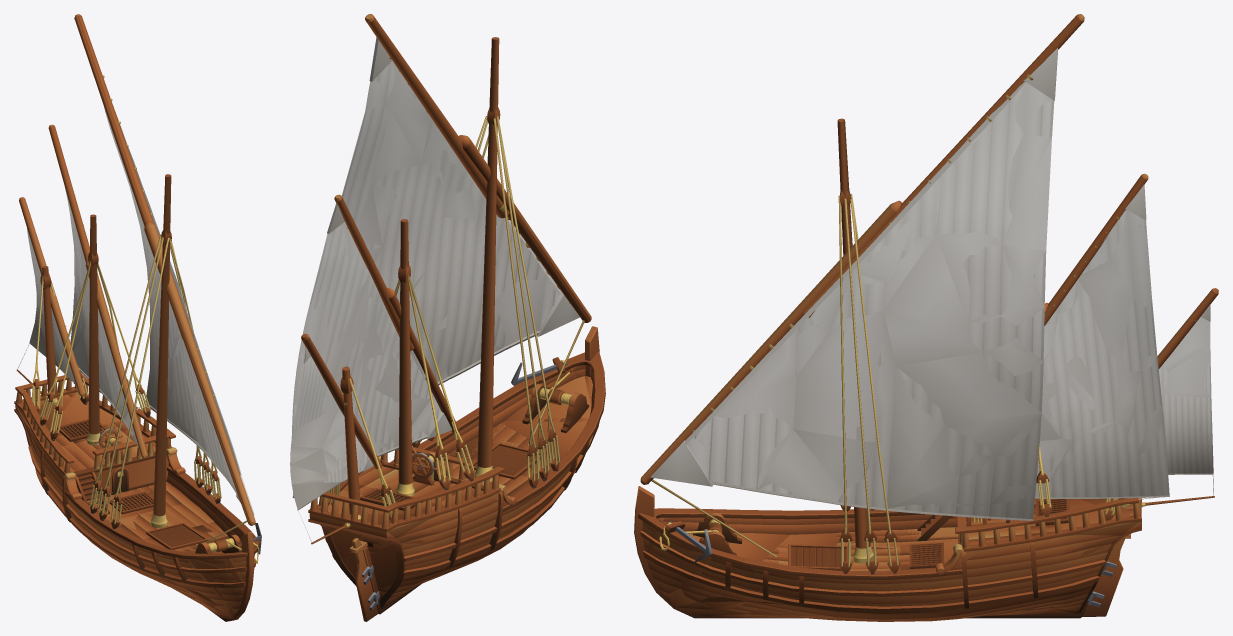
The model's file is Ship Pinta.fbx.
3 renders of one model, left to right at view 1: azimuth 30°, elevation 25°; view 2: azimuth 150°, elevation 25°; view 3: azimuth 270°, elevation 25°, orthographic. The views are drawn at different scales.
Parts seen in each view (by area): view 1: Ship Pinta high, Ship Pinta low, Ship Pinta very low, Ship Pinta; view 2: Ship Pinta high, Ship Pinta very low, Ship Pinta low, Ship Pinta; view 3: Ship Pinta high, Ship Pinta very low, Ship Pinta low, Ship Pinta.
Boxes of the visible parts, x1,y1,x2,y2 form: Ship Pinta high: (14,75,261,621); Ship Pinta low: (19,14,255,525); Ship Pinta very low: (15,107,254,618); Ship Pinta: (16,379,171,476); Ship Pinta high: (290,37,605,621); Ship Pinta very low: (290,61,592,609); Ship Pinta low: (296,14,594,515); Ship Pinta: (310,449,498,527); Ship Pinta high: (634,48,1214,621); Ship Pinta very low: (647,82,1211,620); Ship Pinta low: (640,14,1218,618); Ship Pinta: (959,498,1141,547).
Bounding box in the file's own units: 1143 × 4490 × 3919.
2 materials, 2 textured.
